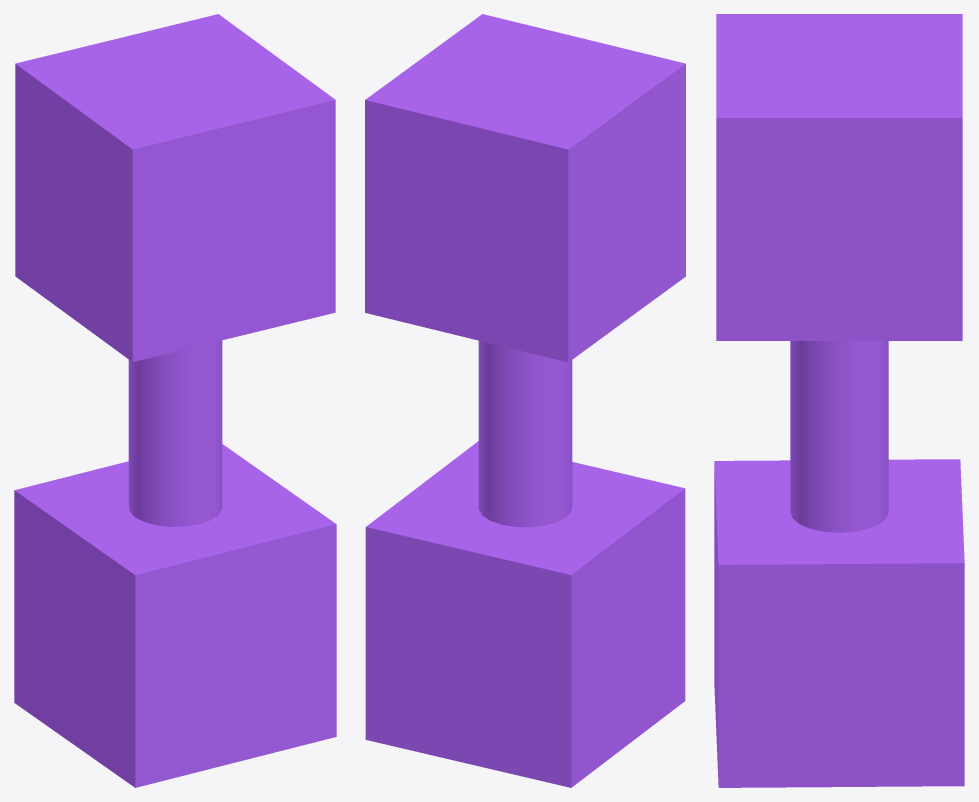
Rendered from robot_dumbbell_purple.dae.
The picture shows the model from 3 angles, left to right: view 1: azimuth 30°, elevation 25°; view 2: azimuth 150°, elevation 25°; view 3: azimuth 270°, elevation 25°; orthographic projection. The views are drawn at different scales.
Visible parts, largest first — view 1: dumbell; view 2: dumbell; view 3: dumbell.
Part boxes in pixels (x1=…): dumbell: x1=14, y1=14, x2=336, y2=787; dumbell: x1=365, y1=14, x2=685, y2=787; dumbell: x1=714, y1=14, x2=964, y2=787.
Bounding box in the file's own units: 5.09 × 15 × 5.09.
